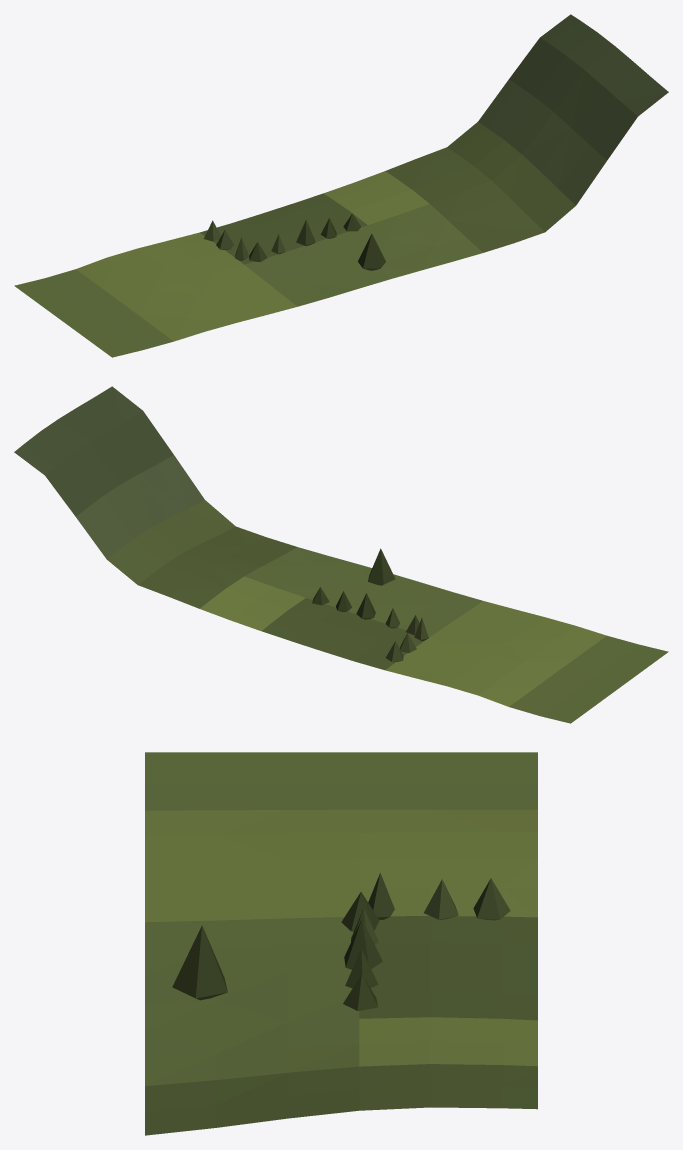
File: backdrop-east.glb
The picture shows the model from 3 angles, top to bottom: view 1: azimuth 30°, elevation 25°; view 2: azimuth 150°, elevation 25°; view 3: azimuth 270°, elevation 25°; orthographic projection. The views are drawn at different scales.
Visible parts, largest first — view 1: backdrop-east; view 2: backdrop-east; view 3: backdrop-east.
Part boxes in pixels (box(x1,y1,x2,y2)): backdrop-east: box(14, 14, 668, 357); backdrop-east: box(14, 386, 668, 723); backdrop-east: box(145, 752, 537, 1135).
Bounding box in the file's own units: 144 × 33.89 × 44.
1 material, 1 textured.
